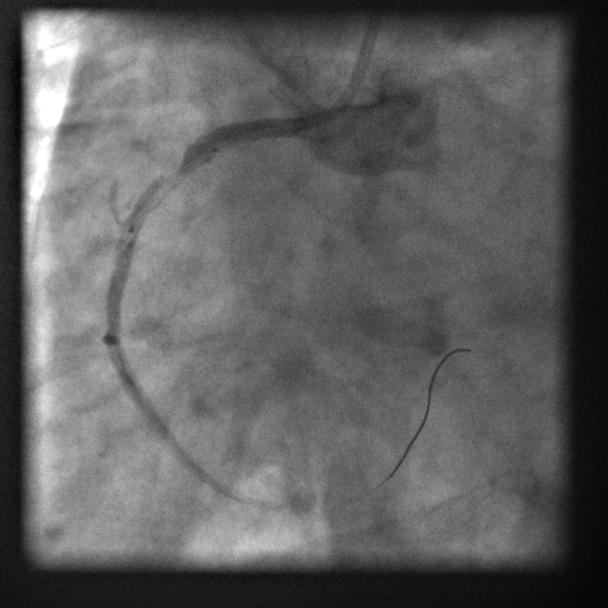Stenosis: (160, 145, 198, 196)
